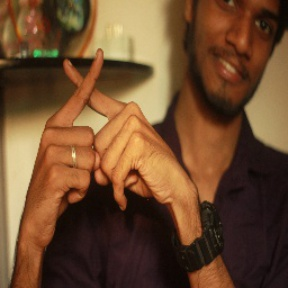X: (39, 40, 140, 166)
